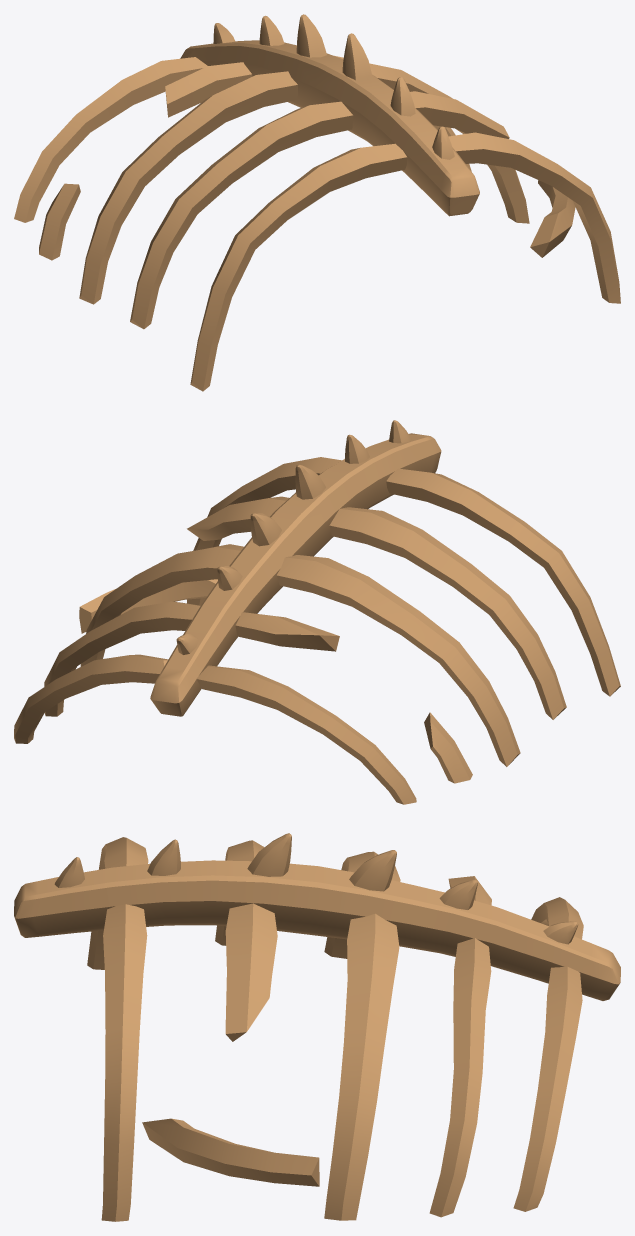
The model's file is Environment_LargeBones.glb.
3 renders of one model, top to bottom at view 1: azimuth 30°, elevation 25°; view 2: azimuth 150°, elevation 25°; view 3: azimuth 270°, elevation 25°, orthographic. The views are drawn at different scales.
Parts seen in each view (by area): view 1: Environment_LargeBones; view 2: Environment_LargeBones; view 3: Environment_LargeBones.
Part boxes in pixels (left/top/right/bottom): Environment_LargeBones: left=14, top=14, right=620, bottom=391; Environment_LargeBones: left=14, top=420, right=620, bottom=804; Environment_LargeBones: left=14, top=833, right=620, bottom=1221.
Size of the model in its own units: 6.5 by 3.43 by 6.62.
Materials: 1 (1 with a texture image).
